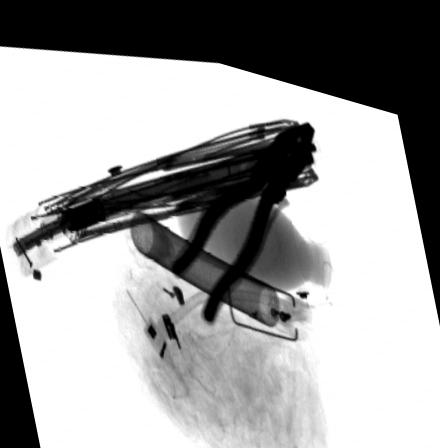Pliers: (167, 102, 315, 315)
